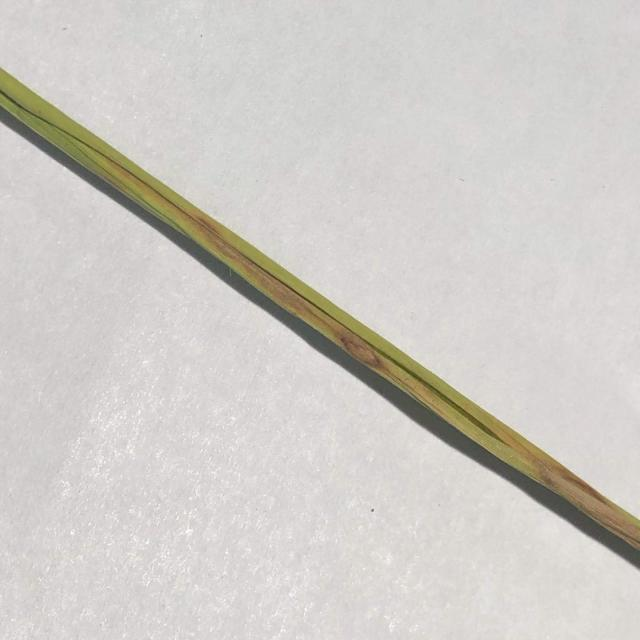Leaf blast: (0, 53, 640, 576)
